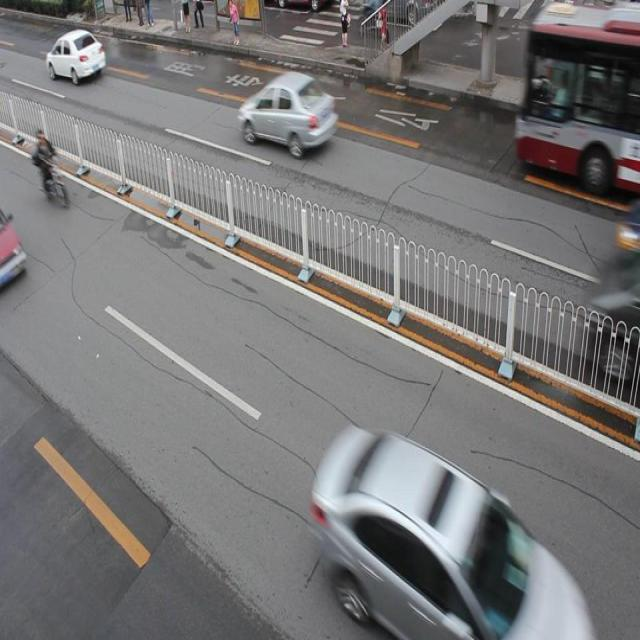car: (318, 424, 589, 640), (238, 70, 337, 154), (46, 28, 106, 82)
van: (514, 1, 640, 190)
